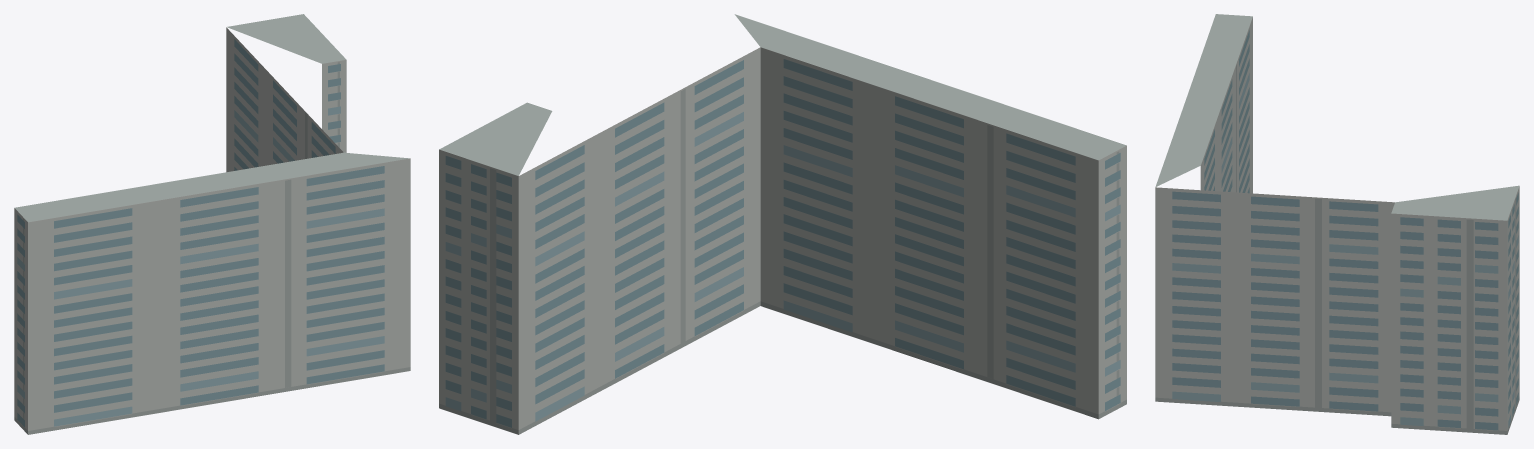
File: residential-d6a8ad73-44e4-4ec4-89d0-1322ec630ebb.glb
3 views of the same model, side by side, from view 1: azimuth 30°, elevation 25°; view 2: azimuth 150°, elevation 25°; view 3: azimuth 270°, elevation 25° (orthographic). The views are drawn at different scales.
Visible parts, largest first — view 1: residential-d6a8ad73-44e4-4ec4-89d0-1322ec630ebb.tmp; view 2: residential-d6a8ad73-44e4-4ec4-89d0-1322ec630ebb.tmp; view 3: residential-d6a8ad73-44e4-4ec4-89d0-1322ec630ebb.tmp.
Boxes of the visible parts, <box> form: residential-d6a8ad73-44e4-4ec4-89d0-1322ec630ebb.tmp: <box>14,14,410,434</box>; residential-d6a8ad73-44e4-4ec4-89d0-1322ec630ebb.tmp: <box>439,14,1126,434</box>; residential-d6a8ad73-44e4-4ec4-89d0-1322ec630ebb.tmp: <box>1155,14,1519,434</box>.
Bounding box in the file's own units: 84.86 × 41 × 63.21.
